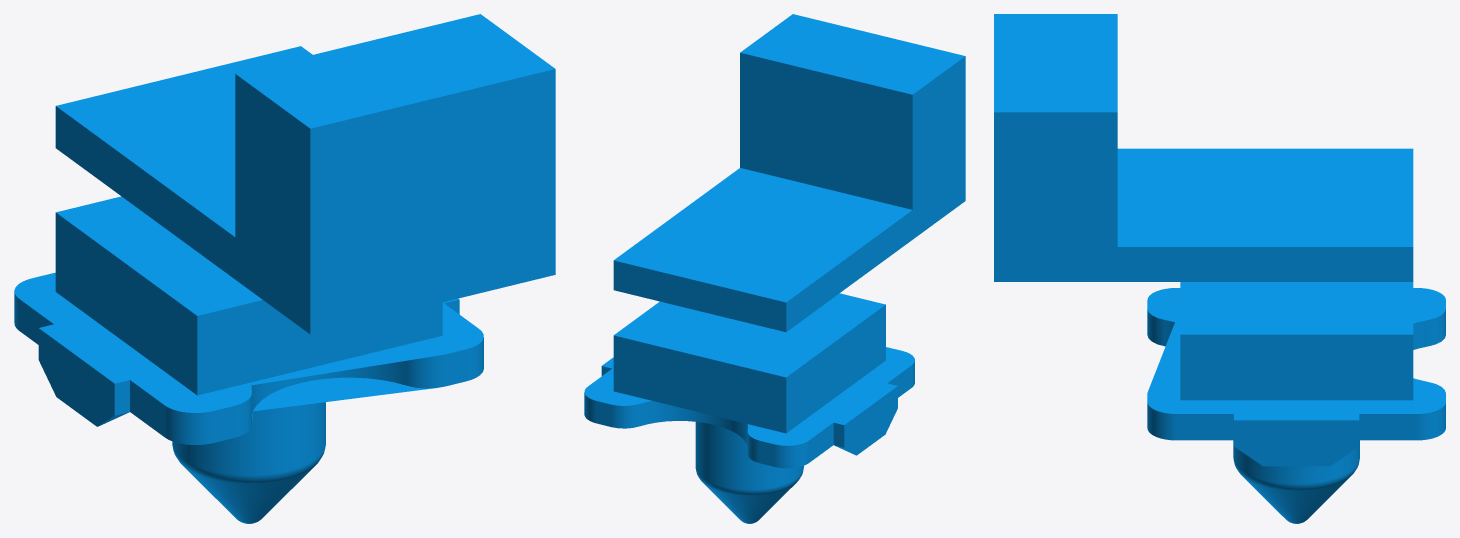
The model's file is FootCBottom.obj.
The picture shows the model from 3 angles, left to right: view 1: azimuth 30°, elevation 25°; view 2: azimuth 150°, elevation 25°; view 3: azimuth 270°, elevation 25°; orthographic projection. The views are drawn at different scales.
Bounding box in the file's own units: 0.1125 × 0.1739 × 0.1552.
